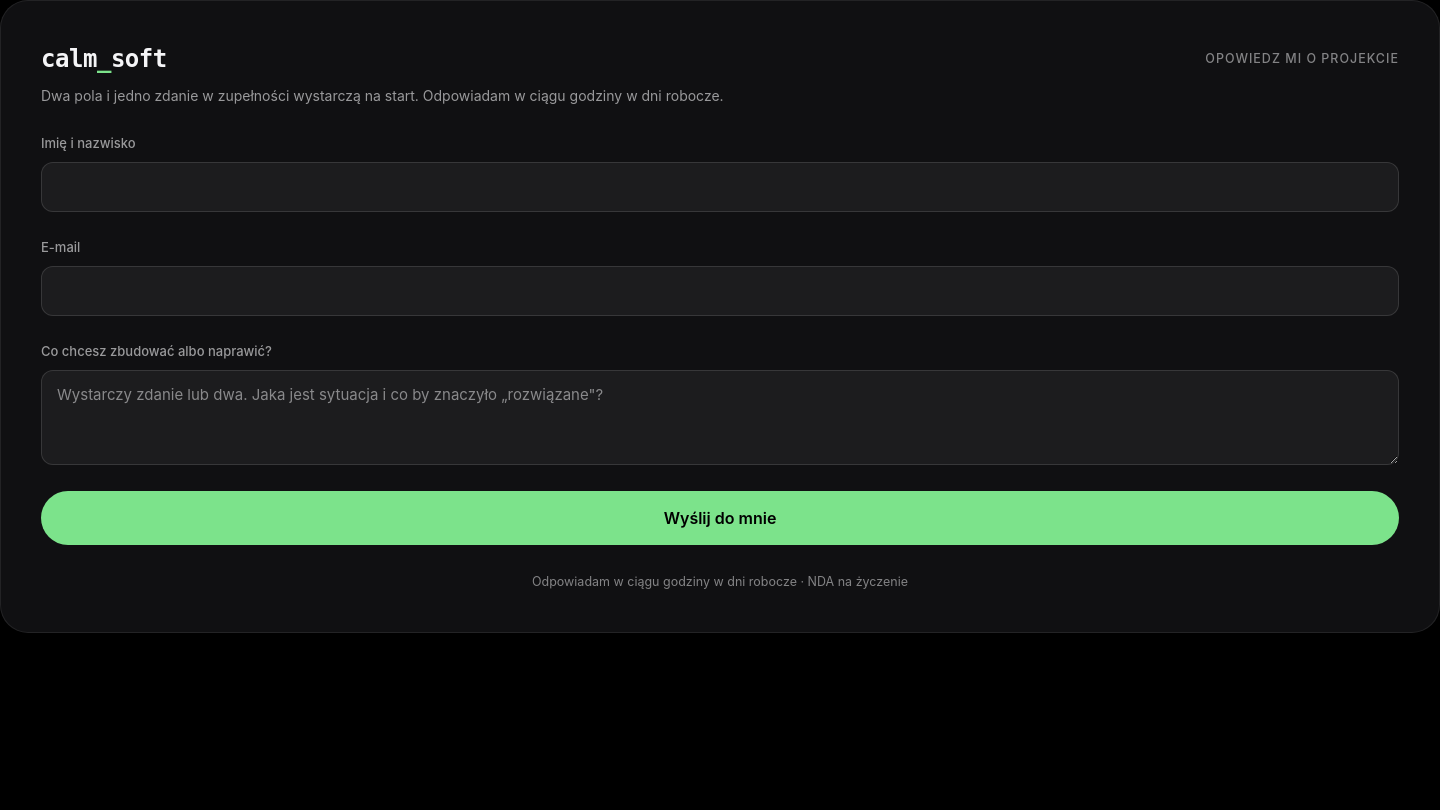
ContactForm step 1 (SPEC §8, §14.2) › blocks submit when the message is empty, marking only the message field invalid
Type "Anna Nowak" into the field labelled "Imię i nazwisko" at [720, 187], box top-left (41, 162), bottom-right (1399, 212)
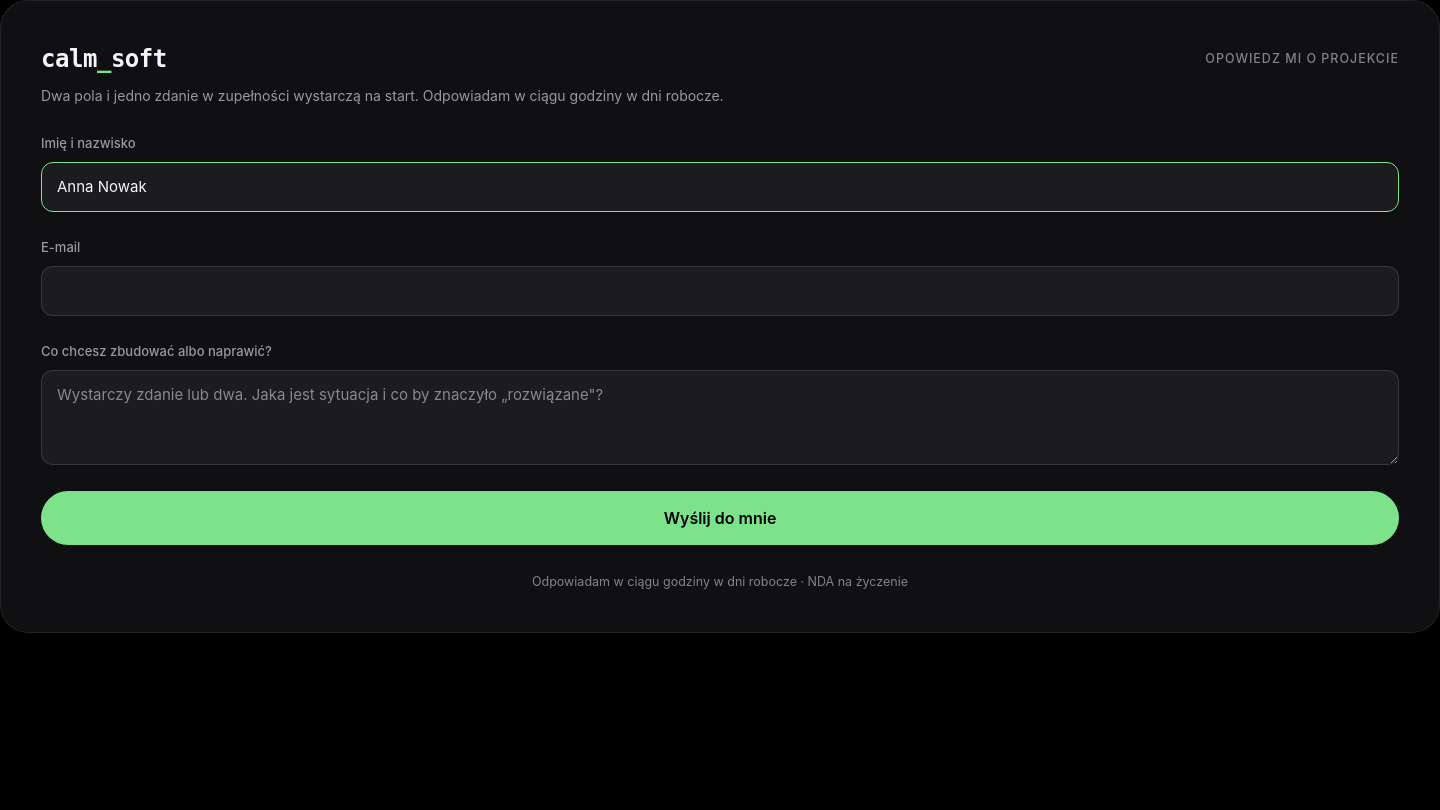
Type "anna@example.com" into the field labelled "E-mail" at [720, 291], box top-left (41, 266), bottom-right (1399, 316)
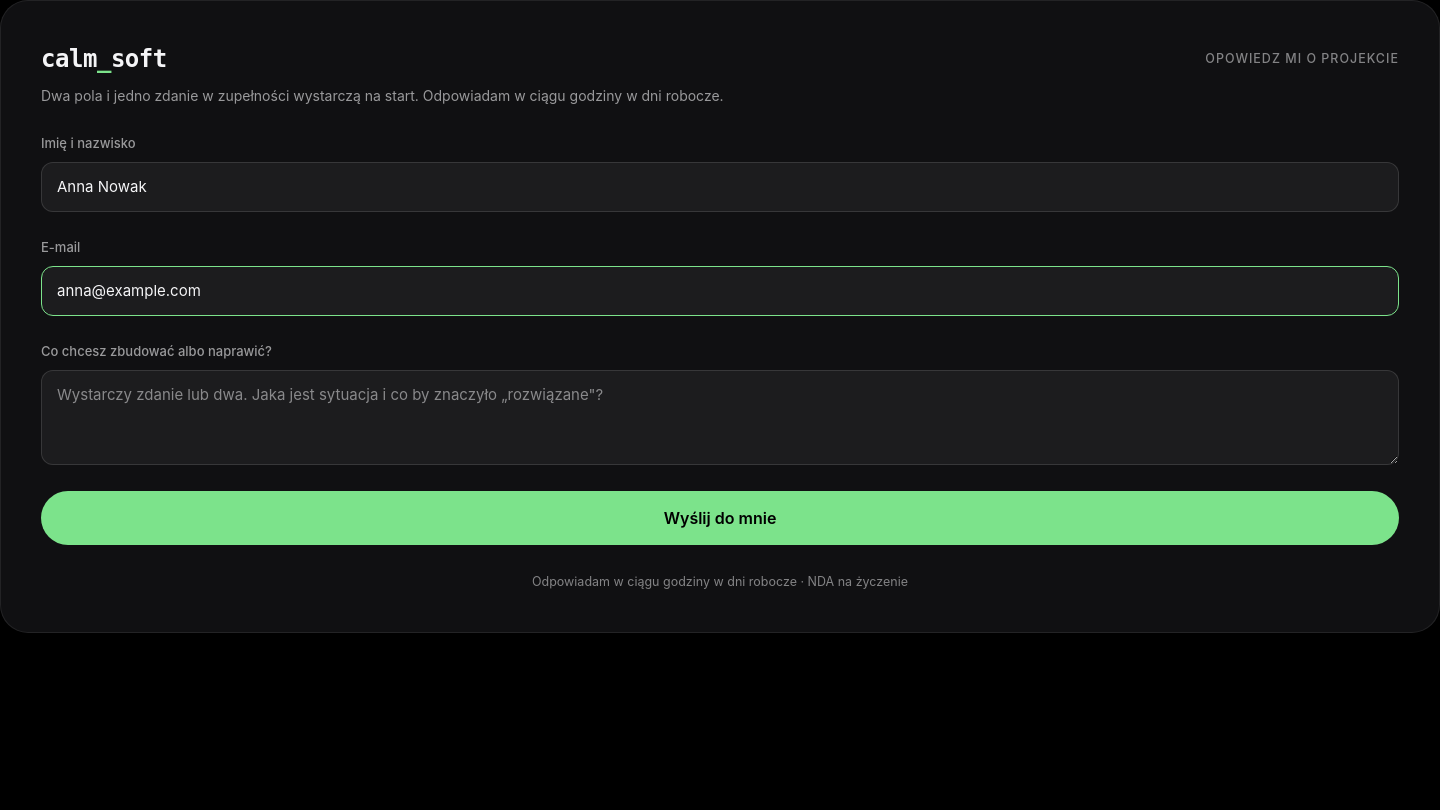
Click the button "Wyślij do mnie" at [720, 518], box top-left (41, 491), bottom-right (1399, 545)
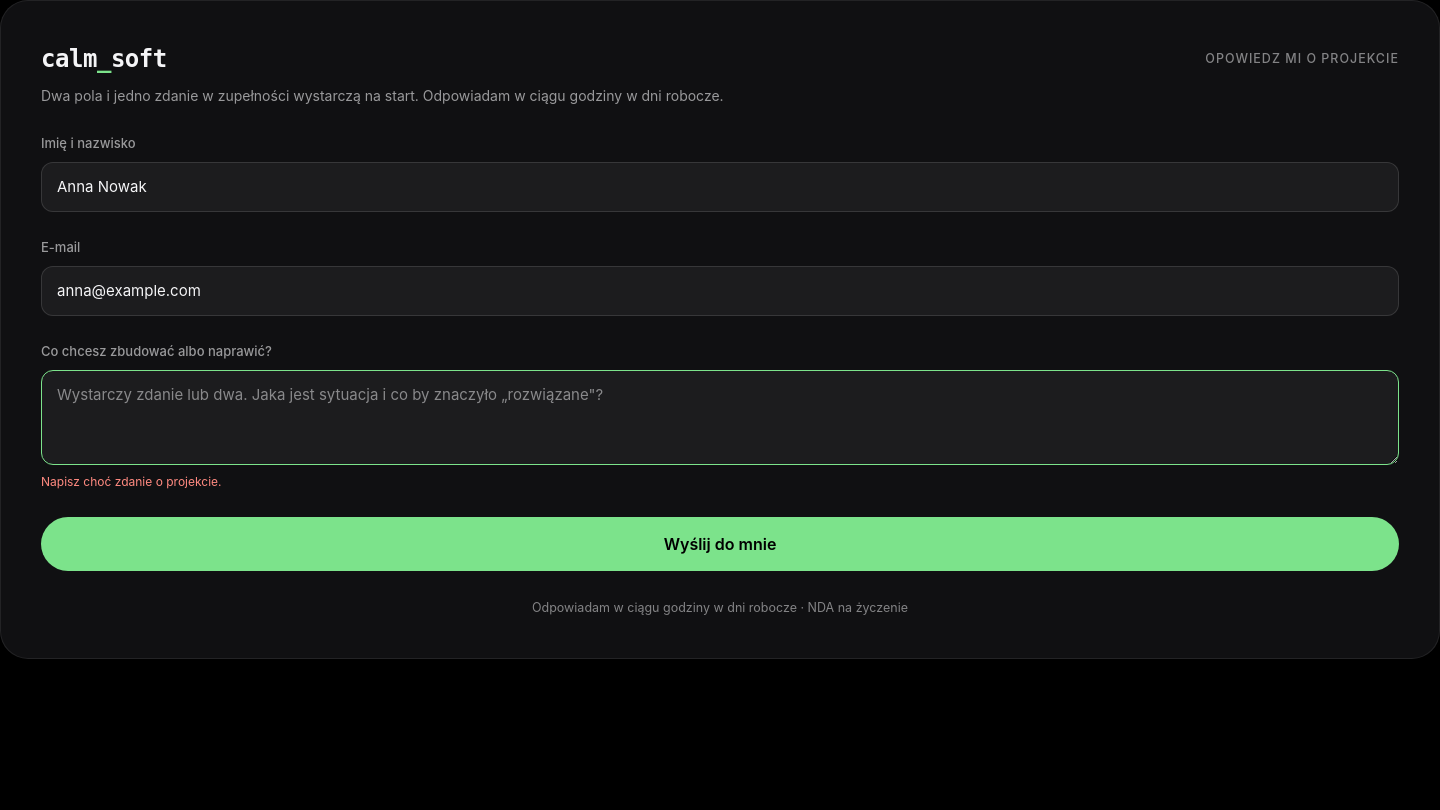
Result: the text "Napisz choć zdanie o projekcie." is shown at top-left (41, 474), bottom-right (222, 489)
